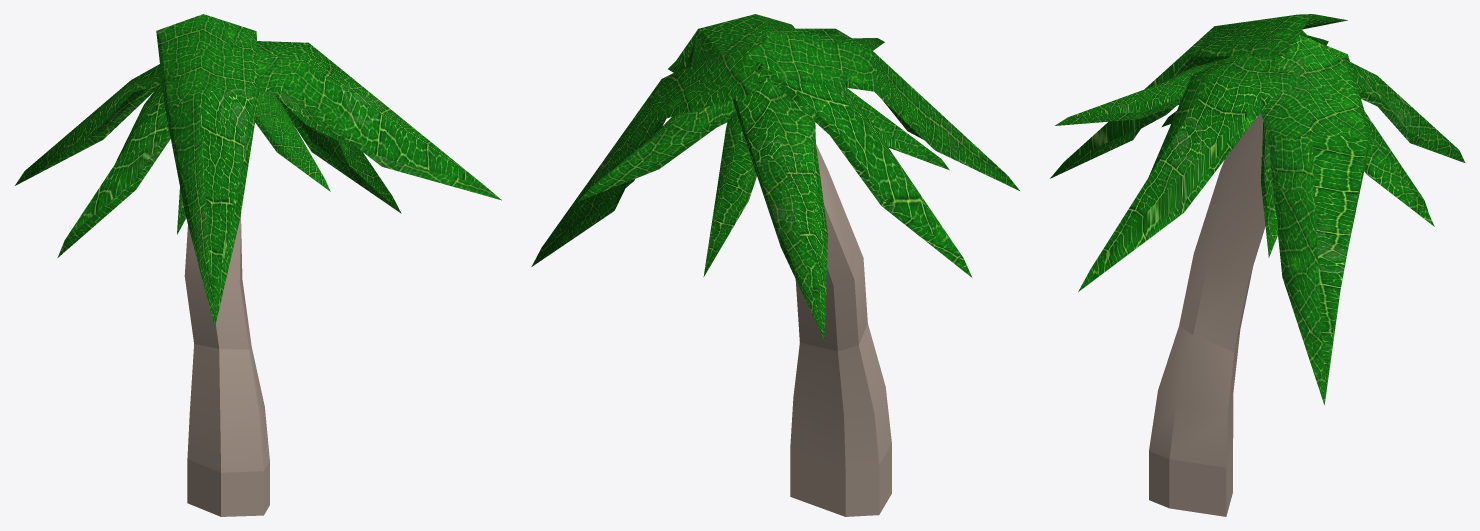
Rendered from PalmTree.fbx.
3 views of the same model, side by side, from view 1: azimuth 30°, elevation 25°; view 2: azimuth 150°, elevation 25°; view 3: azimuth 270°, elevation 25° (orthographic). The views are drawn at different scales.
Visible parts, largest first — view 1: pCube20, pCube10, pCube19, pCube17, pCube16, pCube18, pCube15, pCube13; view 2: pCube10, pCube16, pCube20, pCube17, pCube18, pCube12, pCube11, pCube19, pCube14; view 3: pCube10, pCube18, pCube19, pCube20, pCube16, pCube15, pCube12, pCube13, pCube11.
Part boxes in pixels (left/top/right/bottom): pCube20: left=156, top=14, right=259, bottom=327; pCube10: left=184, top=212, right=269, bottom=516; pCube19: left=254, top=41, right=501, bottom=200; pCube17: left=57, top=82, right=170, bottom=257; pCube16: left=15, top=64, right=161, bottom=185; pCube18: left=286, top=111, right=401, bottom=213; pCube15: left=255, top=91, right=330, bottom=191; pCube13: left=272, top=91, right=356, bottom=150; pCube10: left=790, top=144, right=891, bottom=516; pCube16: left=732, top=71, right=827, bottom=340; pCube20: left=735, top=28, right=1019, bottom=190; pCube17: left=745, top=38, right=972, bottom=277; pCube18: left=531, top=39, right=766, bottom=266; pCube12: left=577, top=99, right=735, bottom=201; pCube11: left=703, top=43, right=756, bottom=276; pCube19: left=668, top=14, right=794, bottom=72; pCube14: left=840, top=87, right=949, bottom=170; pCube10: left=1149, top=113, right=1265, bottom=516; pCube18: left=1261, top=34, right=1371, bottom=405; pCube19: left=1078, top=30, right=1310, bottom=291; pCube20: left=1050, top=14, right=1347, bottom=178; pCube16: left=1350, top=62, right=1465, bottom=162; pCube15: left=1055, top=58, right=1226, bottom=125; pCube12: left=1364, top=136, right=1434, bottom=226; pCube13: left=1261, top=121, right=1277, bottom=257; pCube11: left=1284, top=55, right=1428, bottom=212.
Bounding box in the file's own units: 2.18 × 2.53 × 1.92.
